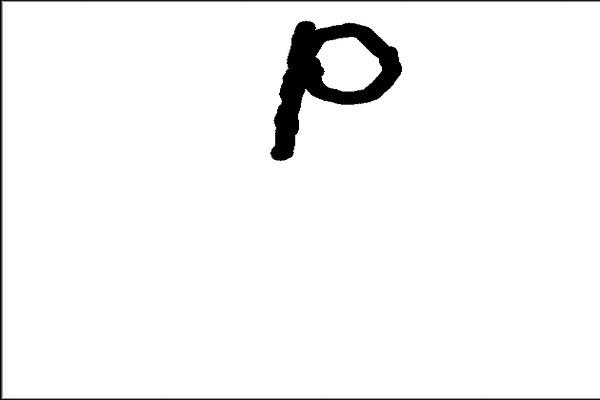P: (265, 9, 408, 171)
